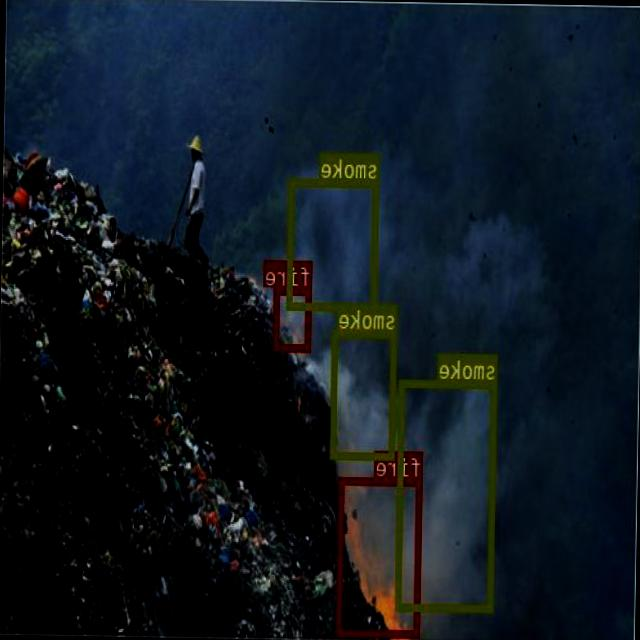fire: (337, 476, 423, 636), (274, 286, 312, 350)
smoke: (397, 377, 497, 610), (288, 176, 379, 308), (332, 328, 396, 458)
